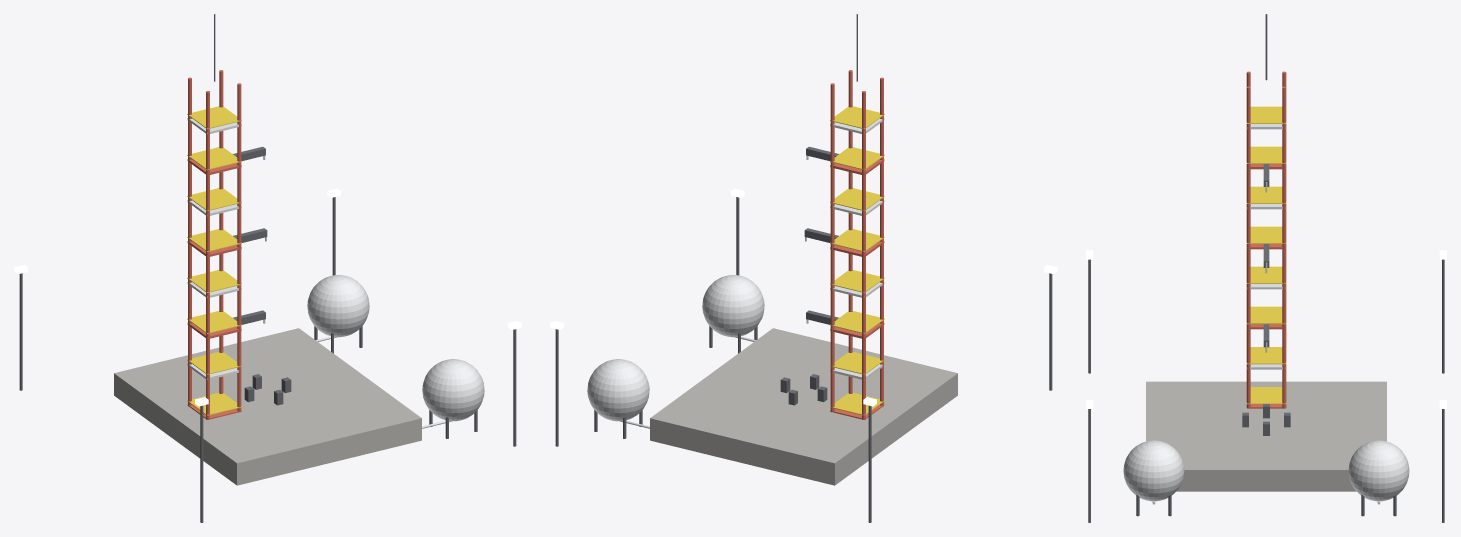
File: launch_complex.glb
3 renders of one model, left to right at view 1: azimuth 30°, elevation 25°; view 2: azimuth 150°, elevation 25°; view 3: azimuth 270°, elevation 25°, orthographic. The views are drawn at different scales.
Parts seen in each view (by area): view 1: Launch_Platform, Cryo_Storage_-14, Cryo_Storage_14, Tower_Column_2.2_-2.2, Tower_Column_-2.2_-2.2, Tower_Column_-2.2_2.2, Tower_Column_2.2_2.2, Tower_Railing_3, Tower_Railing_4, Tower_Railing_1, Tower_Railing_2, Tower_Railing_5 (+3 smaller); view 2: Launch_Platform, Cryo_Storage_14, Cryo_Storage_-14, Tower_Column_2.2_2.2, Tower_Column_-2.2_2.2, Tower_Column_-2.2_-2.2, Tower_Column_2.2_-2.2, Tower_Railing_3, Tower_Railing_4, Tower_Railing_1, Tower_Railing_2, Tower_Railing_5 (+3 smaller); view 3: Launch_Platform, Cryo_Storage_14, Cryo_Storage_-14, Tower_Column_2.2_2.2, Tower_Column_2.2_-2.2, Tower_Railing_2, Tower_Railing_1, Tower_Railing_6, Tower_Railing_7, Tower_Railing_0, Tower_Railing_4, Tower_Railing_5 (+1 smaller).
Boxes of the visible parts, bbox=[...] form: Launch_Platform: bbox=[114, 328, 421, 485]; Cryo_Storage_-14: bbox=[422, 359, 484, 421]; Cryo_Storage_14: bbox=[307, 275, 369, 337]; Tower_Column_2.2_-2.2: bbox=[237, 83, 241, 412]; Tower_Column_-2.2_-2.2: bbox=[206, 91, 209, 419]; Tower_Column_-2.2_2.2: bbox=[188, 77, 191, 406]; Tower_Column_2.2_2.2: bbox=[219, 70, 223, 393]; Tower_Railing_3: bbox=[187, 270, 241, 292]; Tower_Railing_4: bbox=[187, 229, 241, 251]; Tower_Railing_1: bbox=[187, 352, 241, 374]; Tower_Railing_2: bbox=[187, 311, 241, 333]; Tower_Railing_5: bbox=[187, 188, 241, 211]; Launch_Platform: bbox=[650, 328, 957, 485]; Cryo_Storage_14: bbox=[587, 359, 649, 421]; Cryo_Storage_-14: bbox=[702, 275, 764, 337]; Tower_Column_2.2_2.2: bbox=[830, 83, 834, 412]; Tower_Column_-2.2_2.2: bbox=[862, 91, 865, 419]; Tower_Column_-2.2_-2.2: bbox=[880, 77, 883, 406]; Tower_Column_2.2_-2.2: bbox=[848, 70, 852, 393]; Tower_Railing_3: bbox=[830, 270, 884, 292]; Tower_Railing_4: bbox=[830, 229, 884, 251]; Tower_Railing_1: bbox=[830, 352, 884, 374]; Tower_Railing_2: bbox=[830, 311, 884, 333]; Tower_Railing_5: bbox=[830, 188, 884, 211]; Launch_Platform: bbox=[1146, 381, 1386, 491]; Cryo_Storage_14: bbox=[1348, 440, 1409, 501]; Cryo_Storage_-14: bbox=[1123, 440, 1184, 501]; Tower_Column_2.2_2.2: bbox=[1282, 86, 1286, 408]; Tower_Column_2.2_-2.2: bbox=[1246, 86, 1250, 408]; Tower_Railing_2: bbox=[1246, 306, 1286, 324]; Tower_Railing_1: bbox=[1246, 347, 1286, 364]; Tower_Railing_6: bbox=[1246, 146, 1286, 163]; Tower_Railing_7: bbox=[1246, 106, 1286, 123]; Tower_Railing_0: bbox=[1246, 387, 1286, 404]; Tower_Railing_4: bbox=[1246, 226, 1286, 243]; Tower_Railing_5: bbox=[1246, 186, 1286, 203].
Size of what is drawn, in the model's own units: 45.4 by 56.8 by 44.9.
